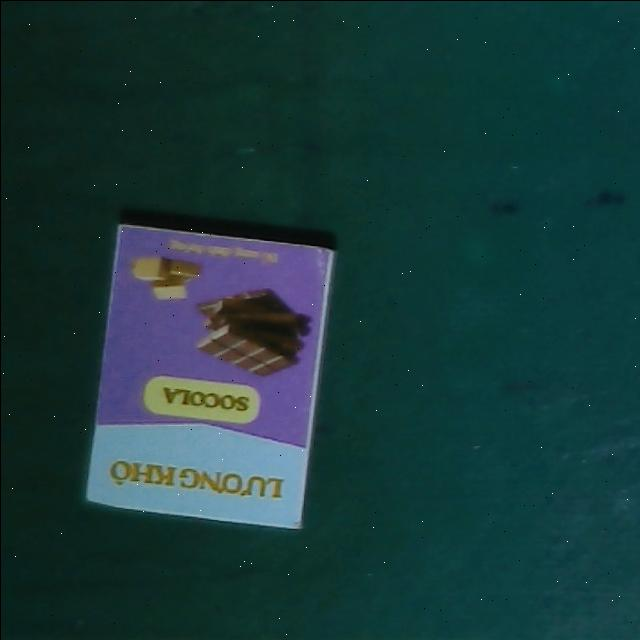socola: (83, 224, 336, 530)
